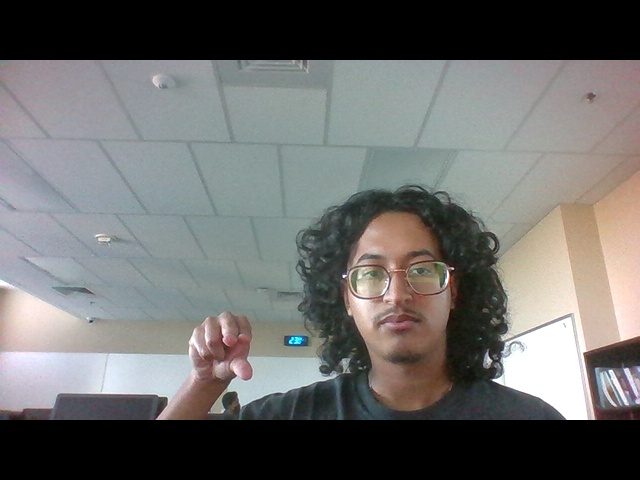no: (187, 307, 263, 386)
